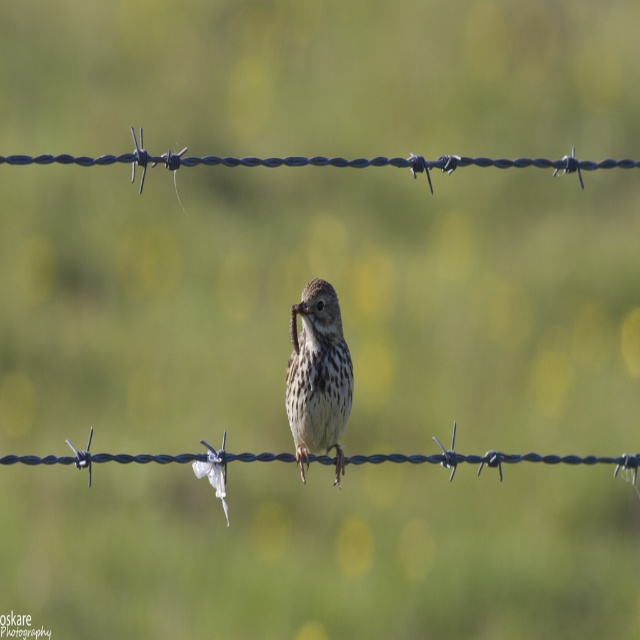Sparrow: (285, 277, 353, 490)
